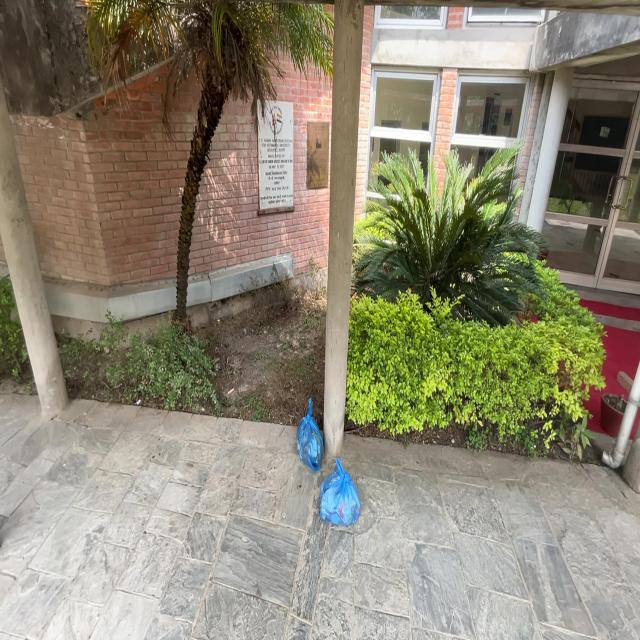garbage: (318, 471, 374, 535), (289, 402, 328, 476)
